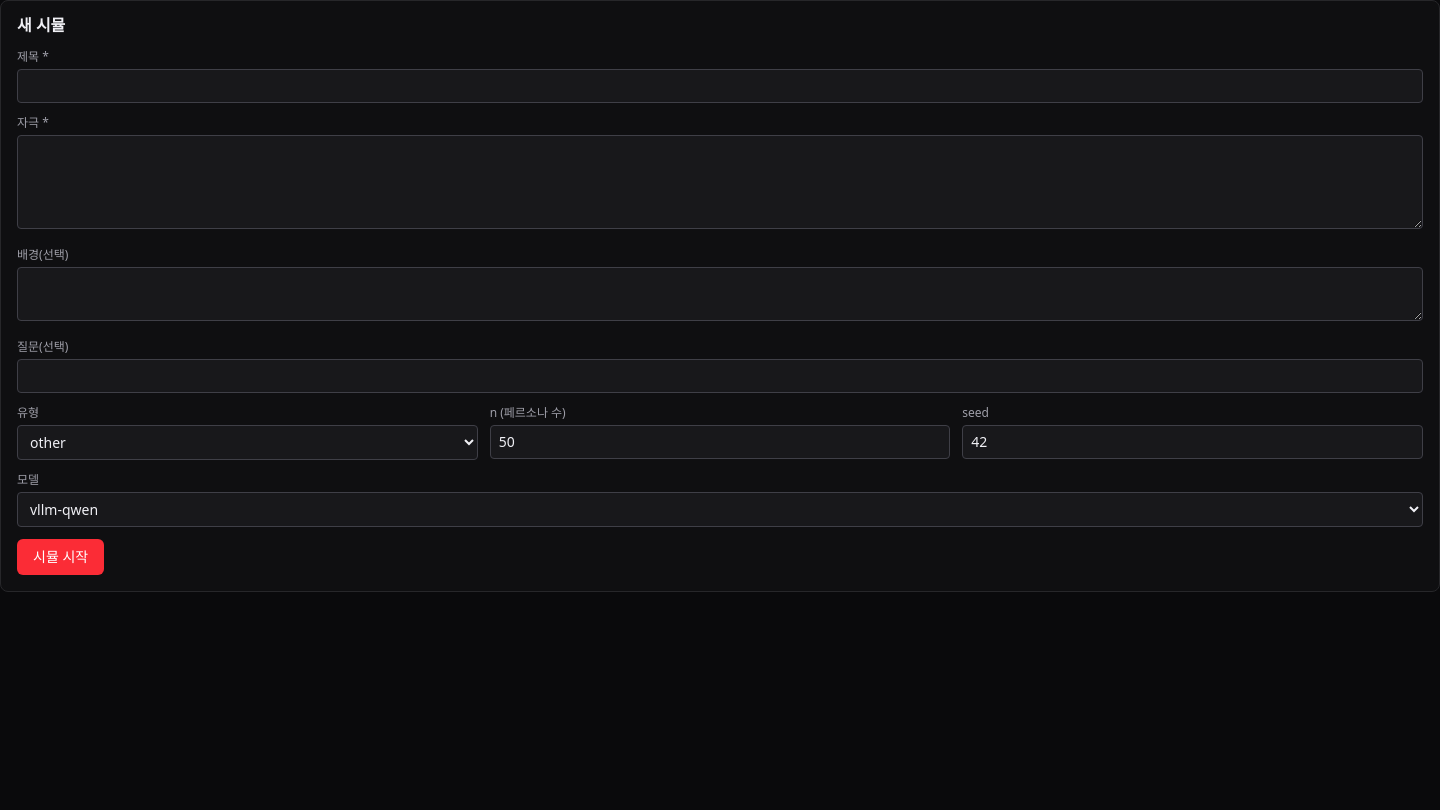
Test: ScenarioForm › blocks submit when n exceeds maxN
Type "x" into the field labelled "제목 *" at (720, 86), box top-left (17, 69), bottom-right (1423, 103)
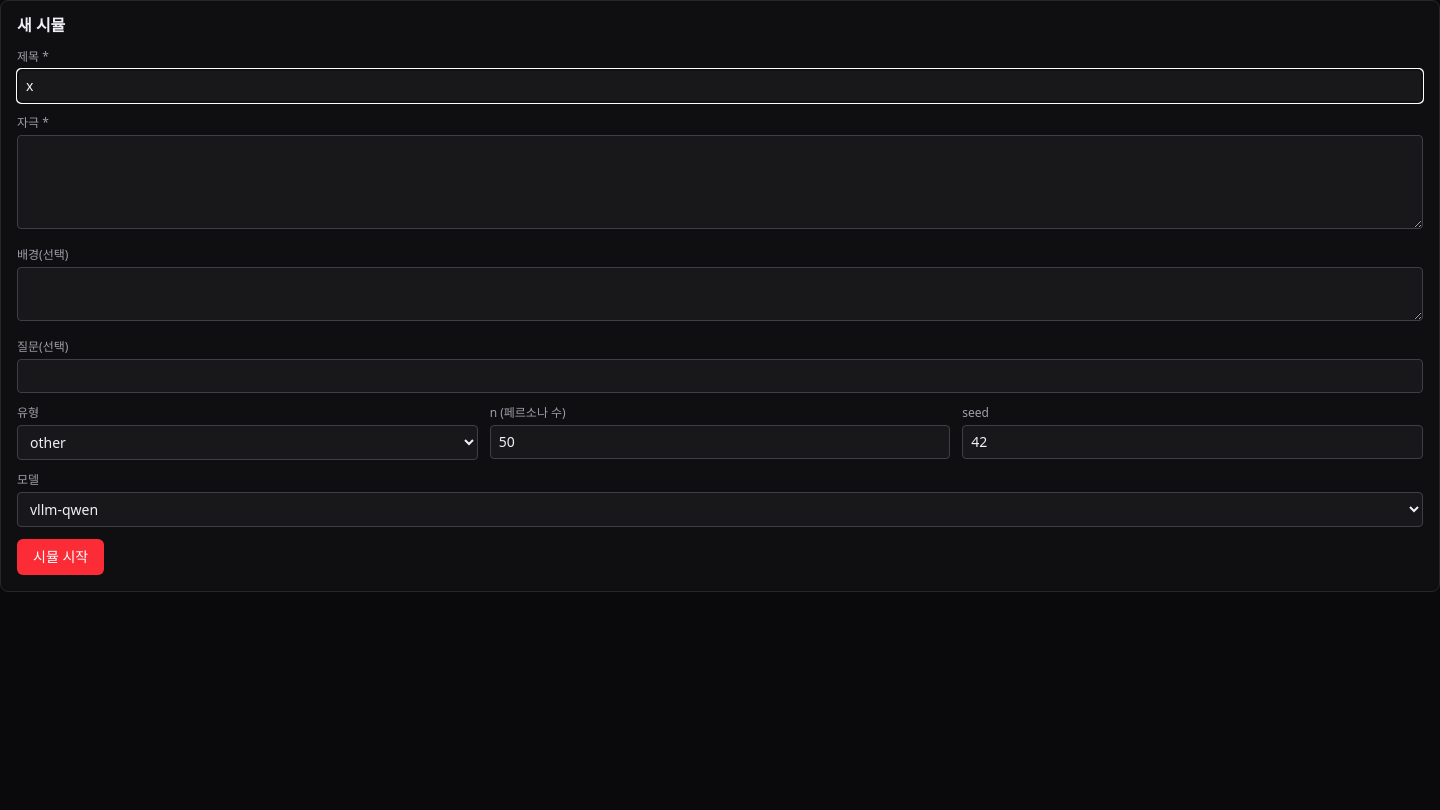
Type "y" into the text box labelled "자극 *" at (720, 182), box top-left (17, 135), bottom-right (1423, 229)
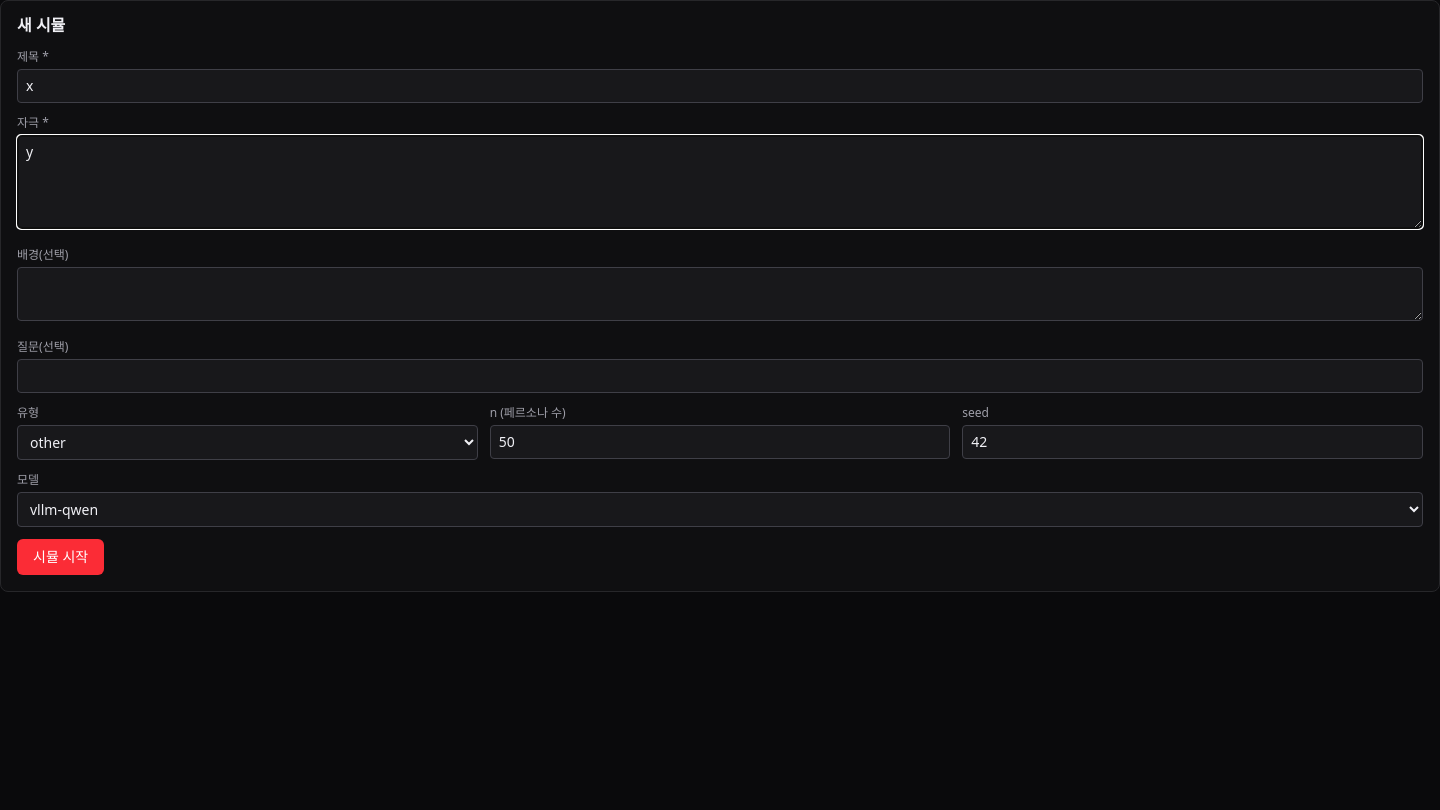
Replace the text in the number field labelled "n (페르소나 수)" with "100" at (720, 442), box top-left (490, 425), bottom-right (950, 459)
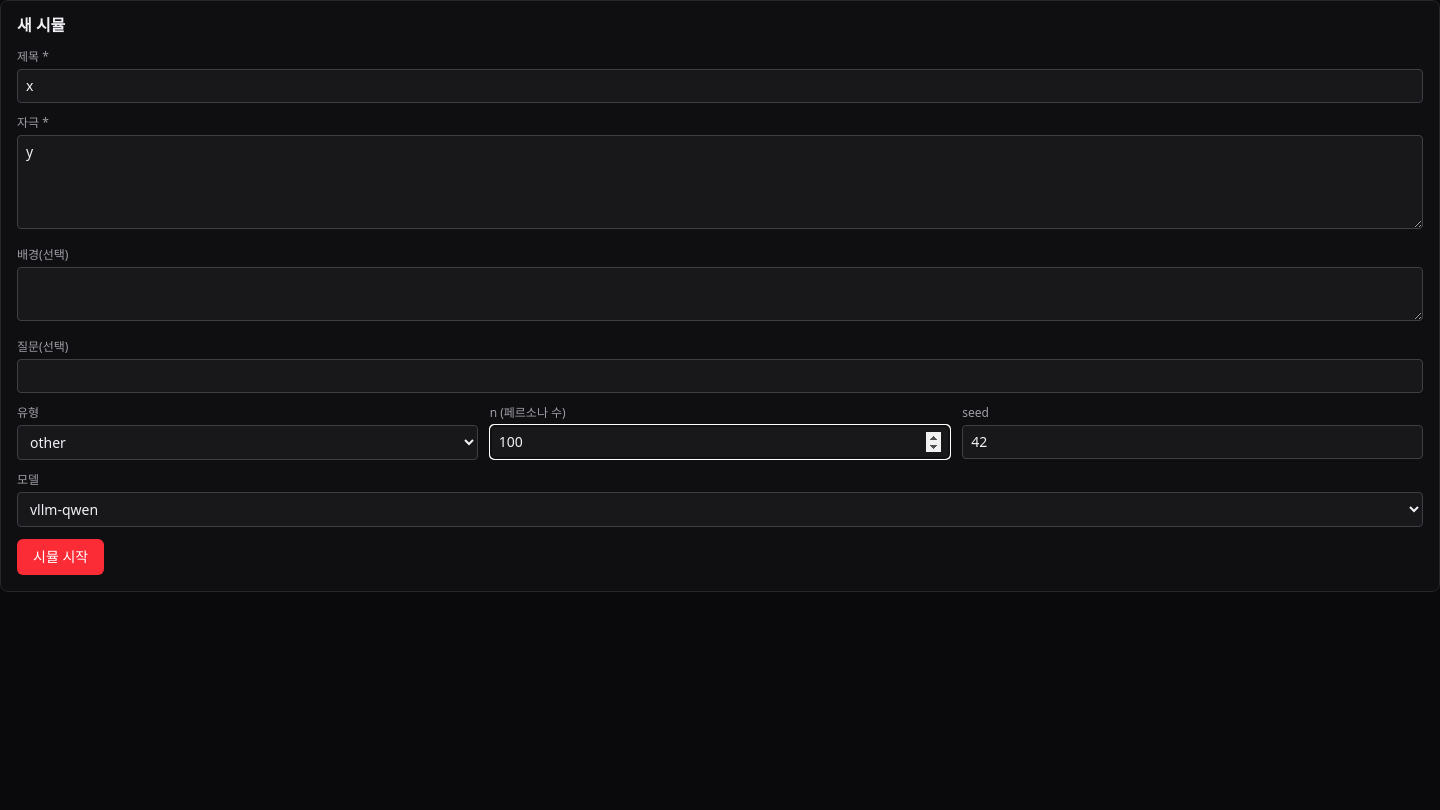
Click the button "시뮬 시작" at (61, 557), box top-left (17, 539), bottom-right (104, 575)
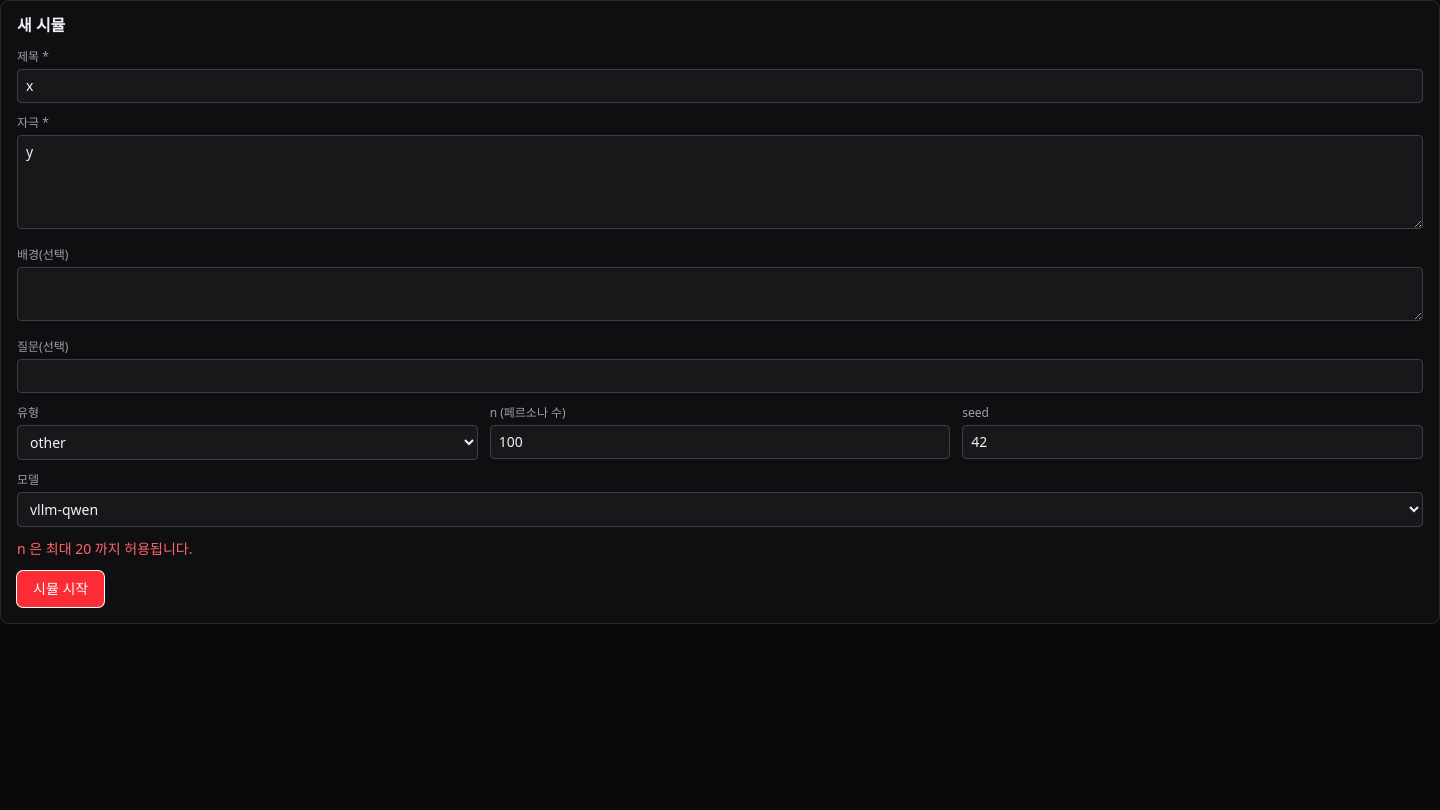
Now the text "n 은 최대 20 까지 허용됩니다." is shown, box top-left (17, 539), bottom-right (192, 558)
